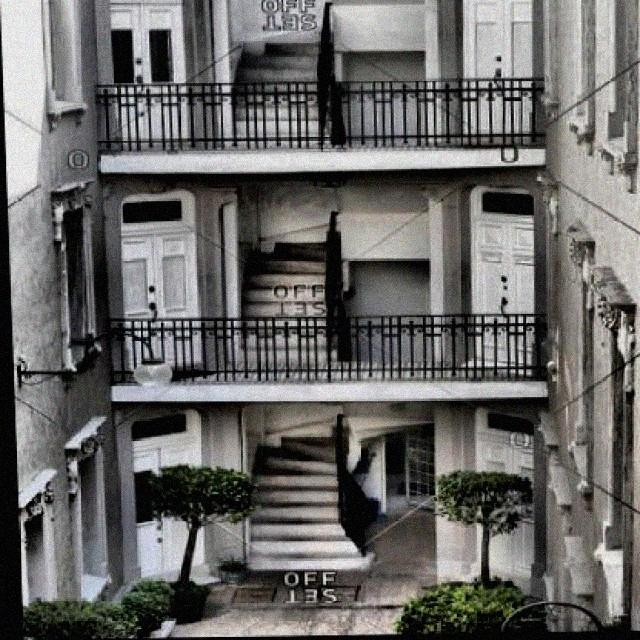stair: (223, 215, 344, 371), (212, 446, 364, 568), (224, 32, 336, 146)
